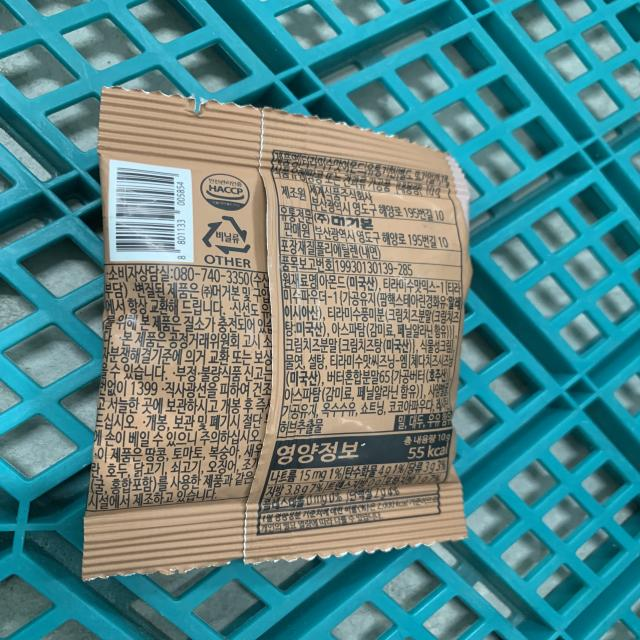object_name: (100, 92, 462, 557)
